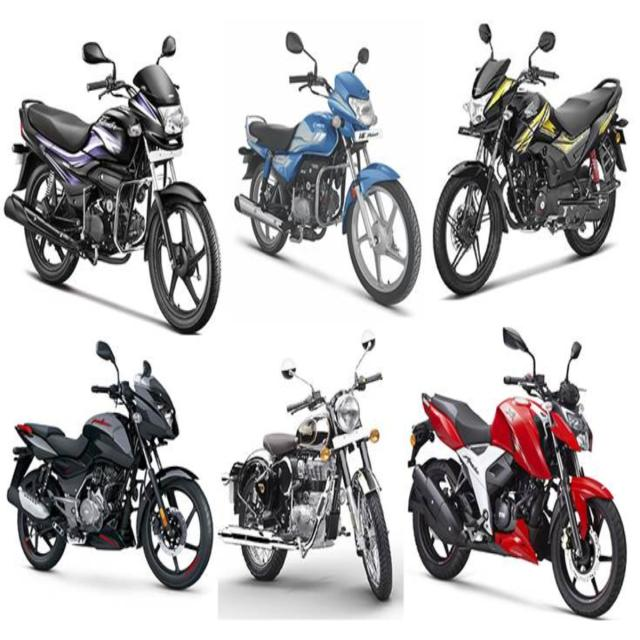Bike: (222, 373, 396, 604)
